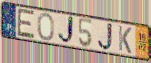5: (78, 17, 94, 50)
E: (17, 8, 36, 41)
J: (56, 15, 75, 46), (97, 22, 114, 51)
K: (118, 25, 133, 56)
O: (37, 12, 55, 42)
